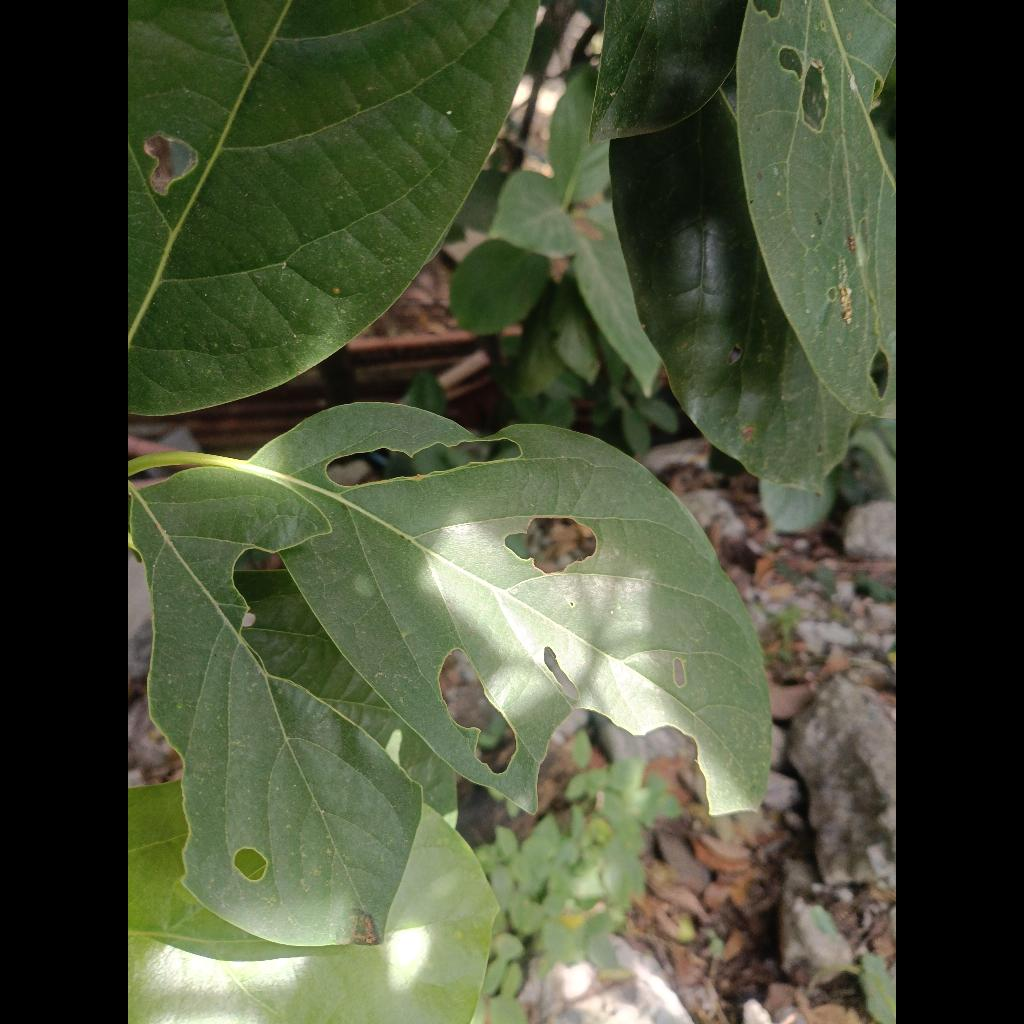Pest Infested: (132, 404, 771, 814), (131, 468, 422, 946)
